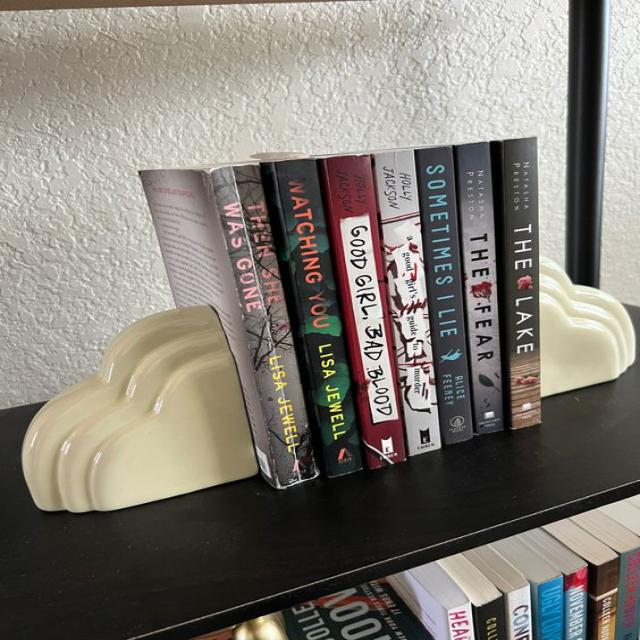book: (206, 164, 320, 489), (274, 157, 365, 477), (325, 153, 408, 470), (373, 150, 441, 453), (415, 145, 474, 445), (459, 141, 504, 435), (505, 136, 540, 430)
